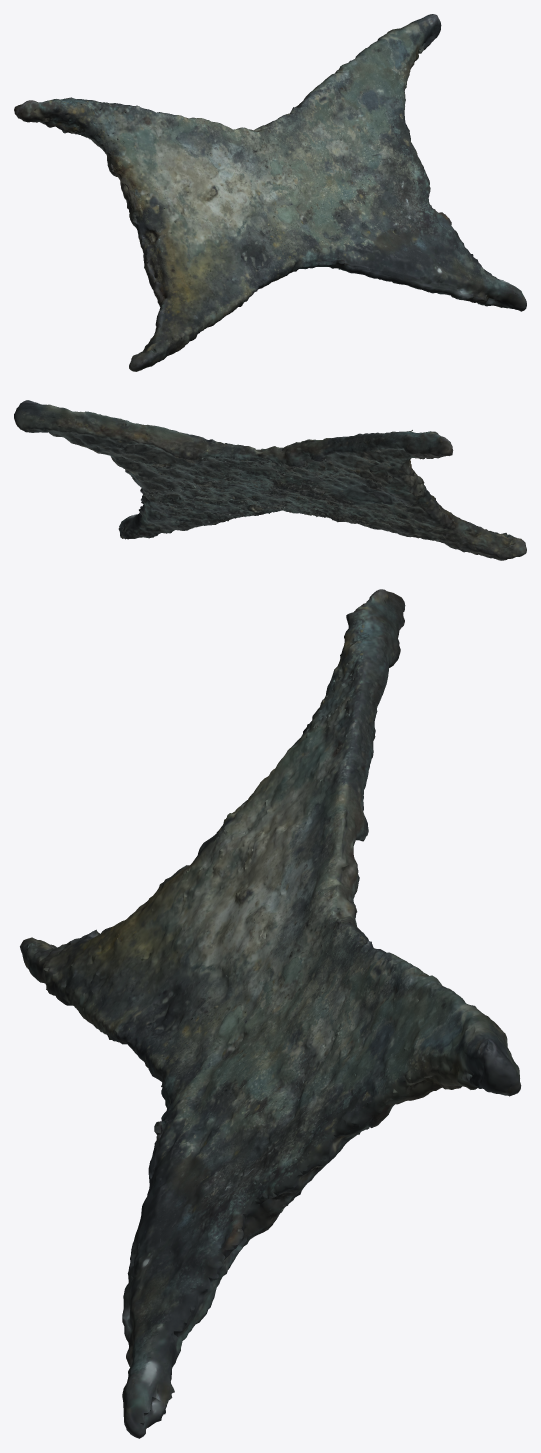
Rendered from nmm17_ingot_copper_oxhide_model_mesh.glb.
3 views of the same model, one above another, from view 1: azimuth 30°, elevation 25°; view 2: azimuth 150°, elevation 25°; view 3: azimuth 270°, elevation 25° (orthographic). The views are drawn at different scales.
Visible parts, largest first — view 1: Object_2; view 2: Object_2; view 3: Object_2.
Part boxes in pixels (box(x1,y1,x2,y2)): Object_2: box(14, 14, 526, 371); Object_2: box(14, 400, 526, 560); Object_2: box(20, 589, 521, 1438).
Size of the model in its own units: 3.46 by 1.93 by 1.84.
Materials: 1 (1 with a texture image).
